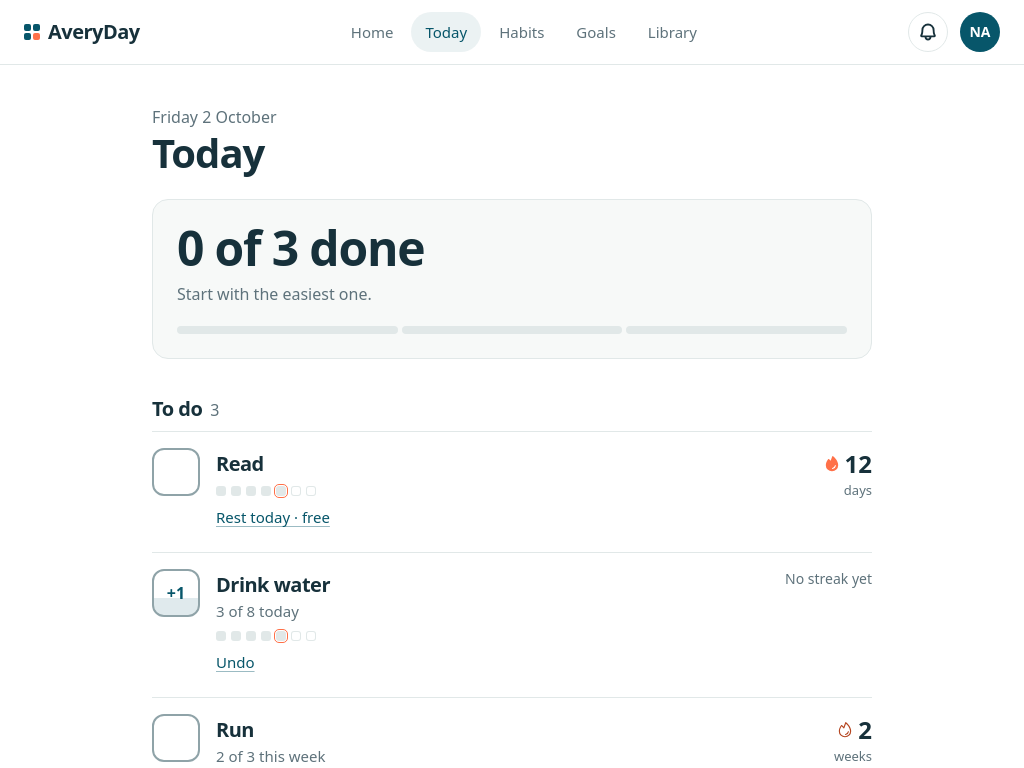
Test case: the Today page › checks a habit in with one tap and moves it to Done at once
Step 1. Click the button named "Mark Read done" → (176, 472), box x1=152 y1=448 x2=200 y2=496
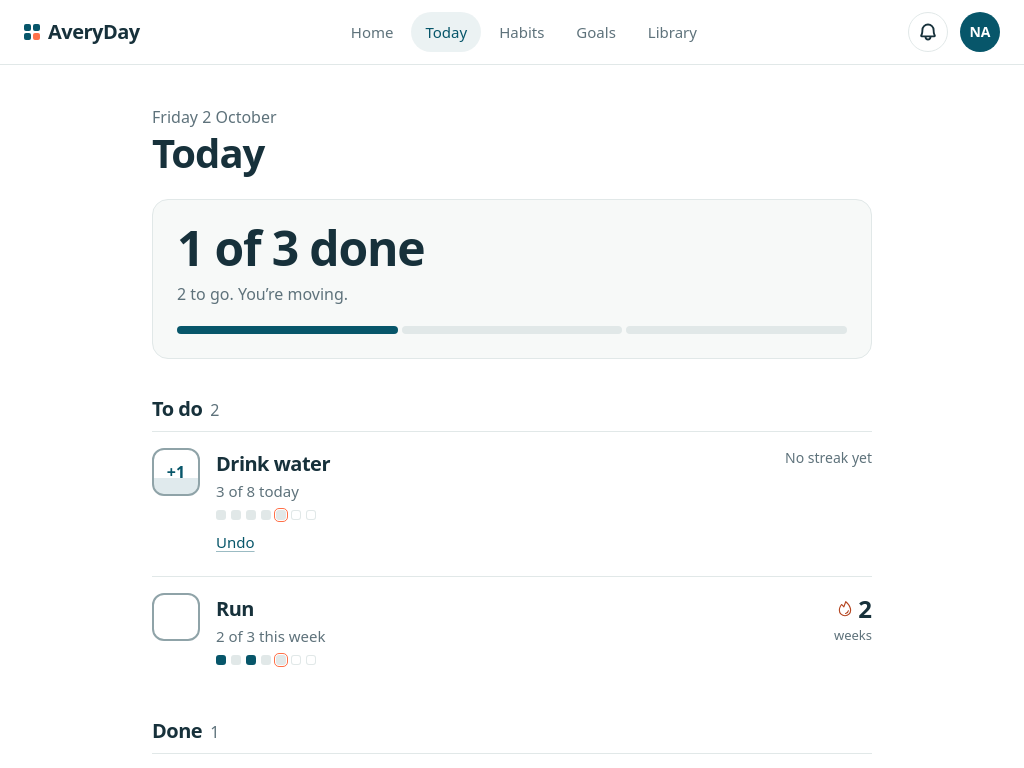
Expected: the text "1 of 3 done" is shown, x1=177 y1=224 x2=424 y2=272
